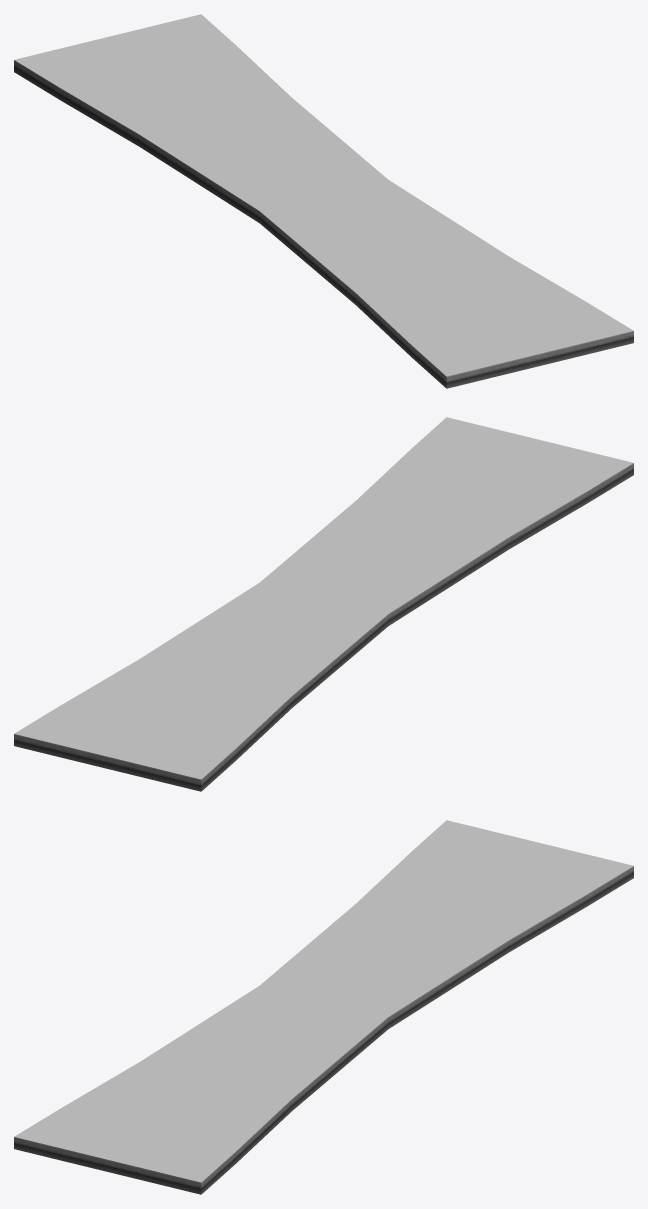
Rendered from Chicane.fbx.
The picture shows the model from 3 angles, top to bottom: view 1: azimuth 30°, elevation 25°; view 2: azimuth 150°, elevation 25°; view 3: azimuth 330°, elevation 25°; orthographic projection.
Parts seen in each view (by area): view 1: Empty_Mesh; view 2: Empty_Mesh; view 3: Empty_Mesh.
Boxes of the visible parts, box(x1,y1,x2,y2) form: Empty_Mesh: box(14, 14, 633, 388); Empty_Mesh: box(14, 417, 633, 791); Empty_Mesh: box(14, 820, 633, 1194).
Bounding box in the file's own units: 1600 × 100 × 6400.
